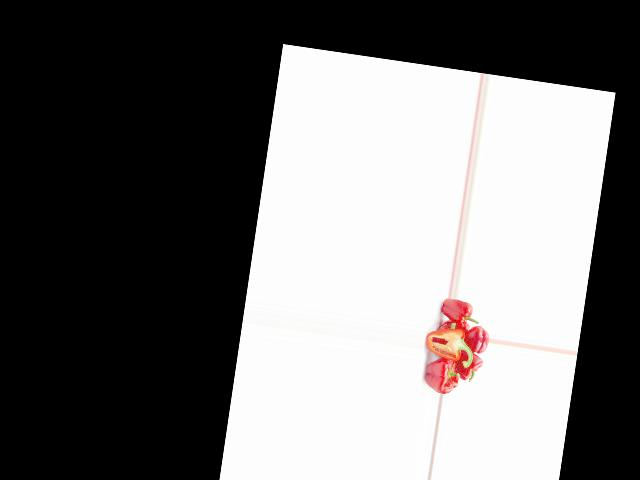bell_pepper: (456, 350, 484, 383)
